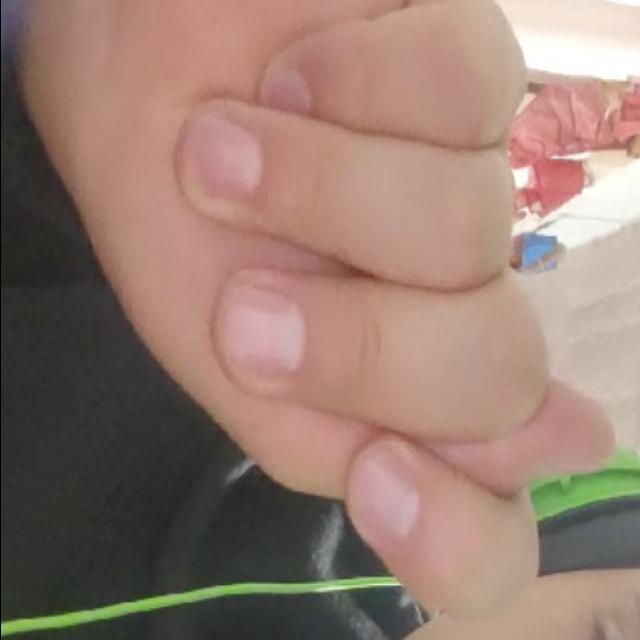T: (3, 4, 628, 637)
